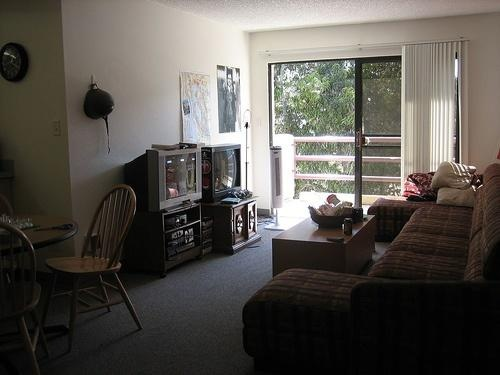chair: (43, 187, 141, 354), (1, 227, 46, 375)
sofa: (240, 165, 500, 375)
tvmonitor: (122, 150, 205, 209), (203, 144, 244, 203)
